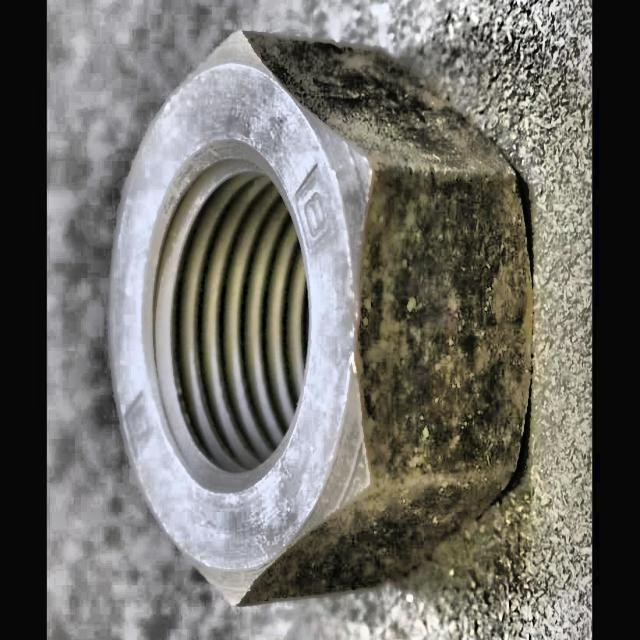Nut Detection - v1 Nut Dataset: (93, 12, 546, 625)
